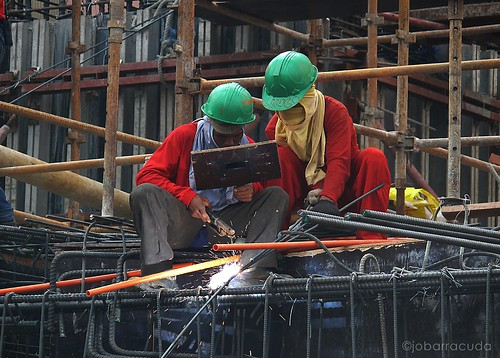person hardhat: (128, 80, 293, 289), (245, 46, 399, 255)
